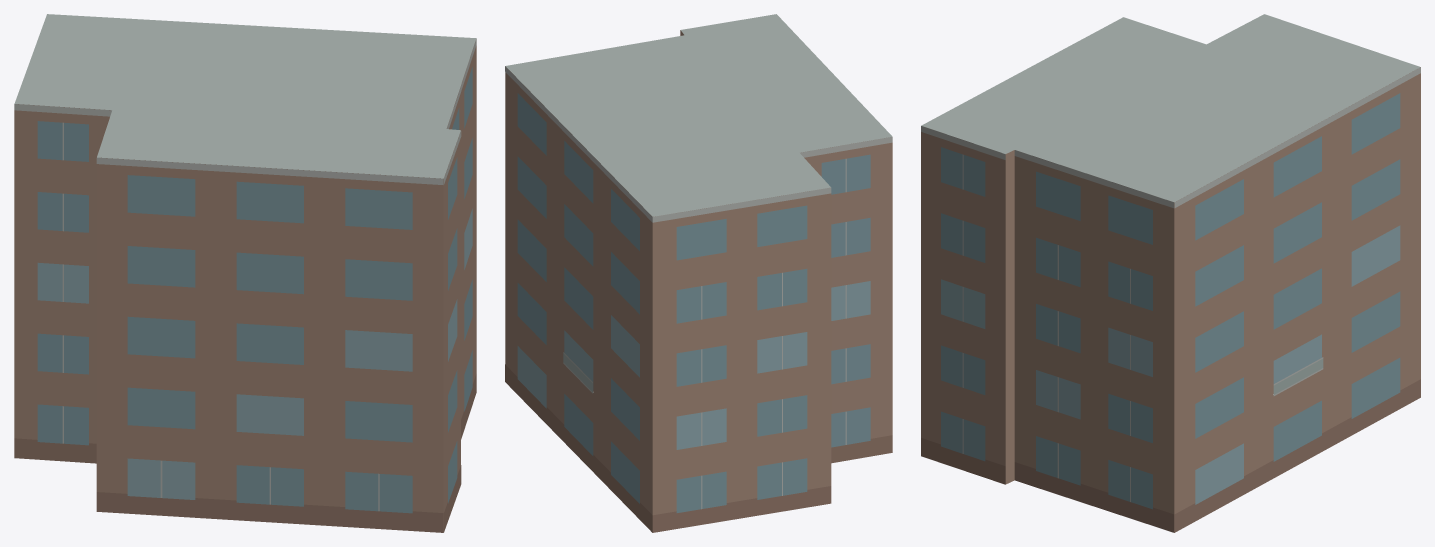
The model's file is survey-upis-32489048.glb.
The picture shows the model from 3 angles, left to right: view 1: azimuth 30°, elevation 25°; view 2: azimuth 150°, elevation 25°; view 3: azimuth 270°, elevation 25°; orthographic projection. The views are drawn at different scales.
Parts seen in each view (by area): view 1: survey-upis-32489048.tmp; view 2: survey-upis-32489048.tmp; view 3: survey-upis-32489048.tmp.
Boxes of the visible parts, x1,y1,x2,y2 form: survey-upis-32489048.tmp: (14,14,476,532); survey-upis-32489048.tmp: (505,14,892,532); survey-upis-32489048.tmp: (921,14,1420,532).
Bounding box in the file's own units: 16.15 × 13.2 × 18.1.
